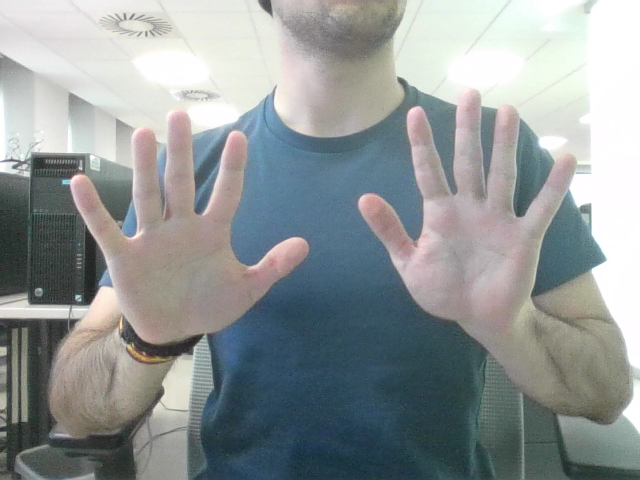Manos Arriba: (106, 111, 542, 303)
